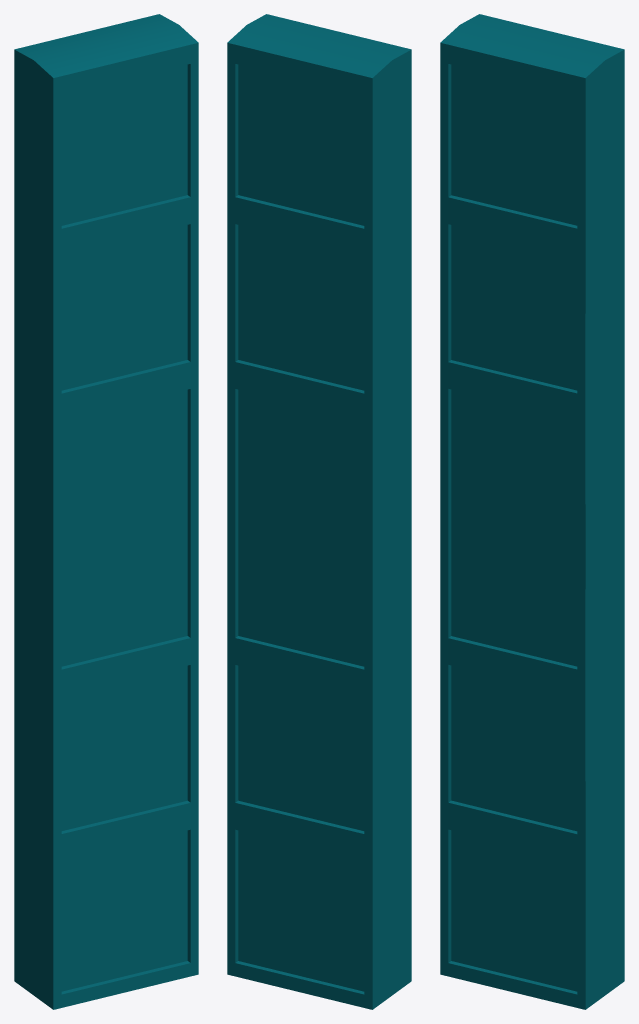
Rendered from Industry_Pillar3_low.fbx.
The picture shows the model from 3 angles, left to right: view 1: azimuth 30°, elevation 25°; view 2: azimuth 150°, elevation 25°; view 3: azimuth 330°, elevation 25°; orthographic projection.
Visible parts, largest first — view 1: Industry_Pillar3_low; view 2: Industry_Pillar3_low; view 3: Industry_Pillar3_low.
Boxes of the visible parts, left/top/right/bottom form: Industry_Pillar3_low: left=14, top=14, right=198, bottom=1009; Industry_Pillar3_low: left=227, top=14, right=411, bottom=1009; Industry_Pillar3_low: left=440, top=14, right=624, bottom=1009.
Size of the model in its own units: 131 by 805 by 61.24.
